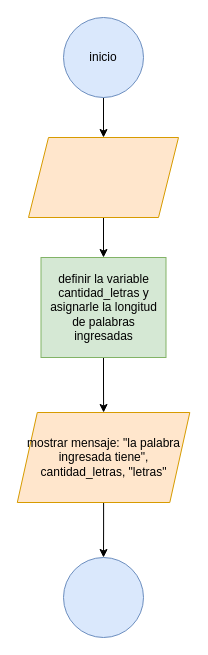
Some shapes in this 208 by 655 pixel diagram are drawn without their labels. The centre of each missing label's shape, as x and y in pixels:
fin: [103,597]
mostrar mensaje "por favor, ingrese una palabra": [103,177]
